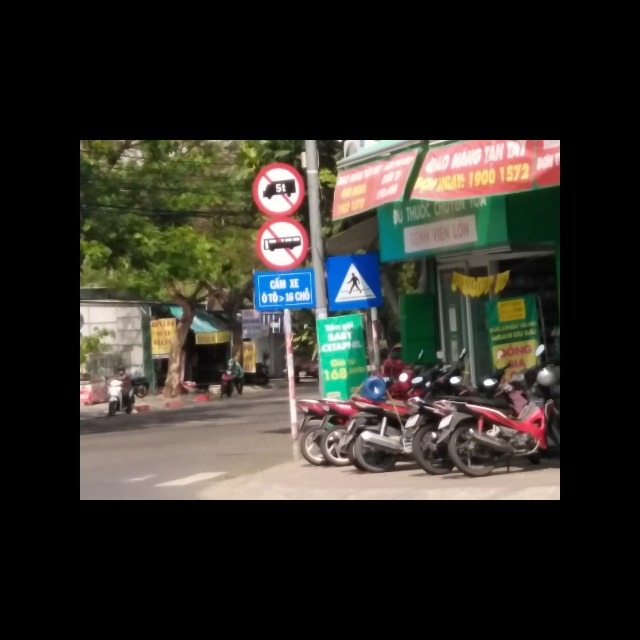Cấm xe tải: (251, 162, 307, 217)
Cấm xe xe khách: (255, 217, 309, 269)
Đường dành cho người đi bộ: (327, 255, 383, 310)
